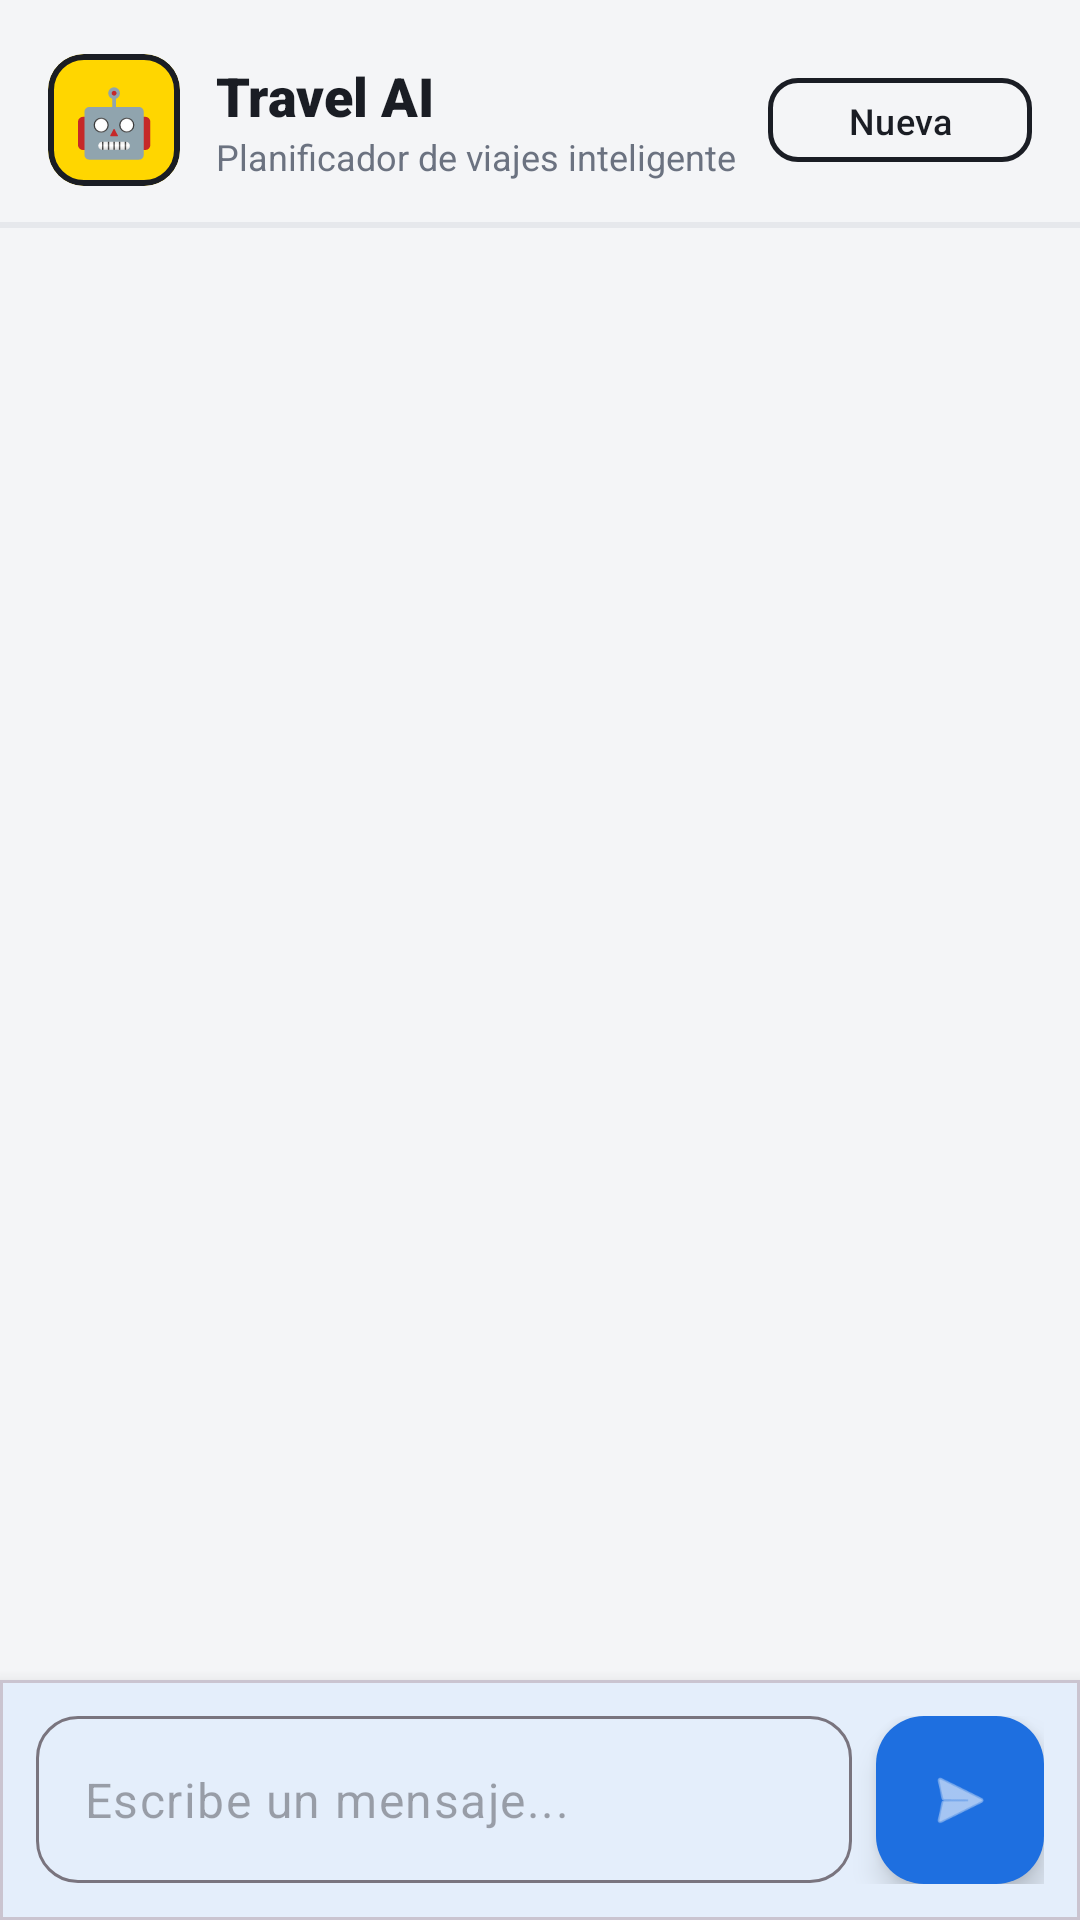

Icons on this 1080x1920 Android screen, each with the point to tap as [x,y]:
Enviar: [960,1800]
